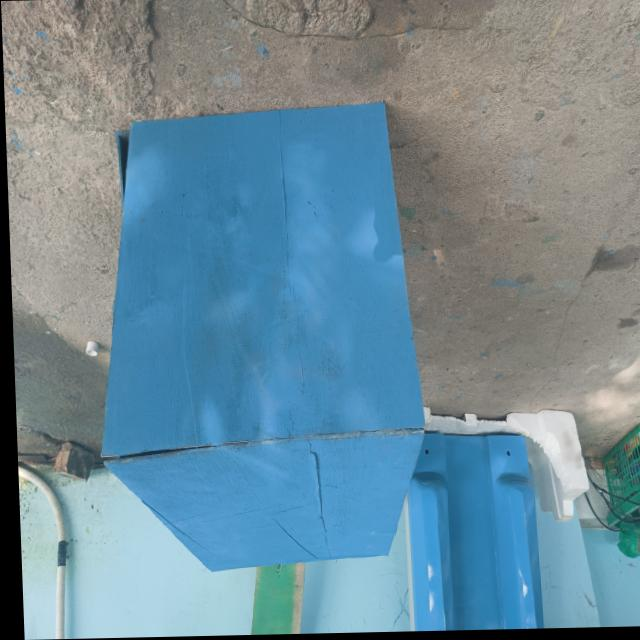blue_box: (94, 109, 429, 570)
